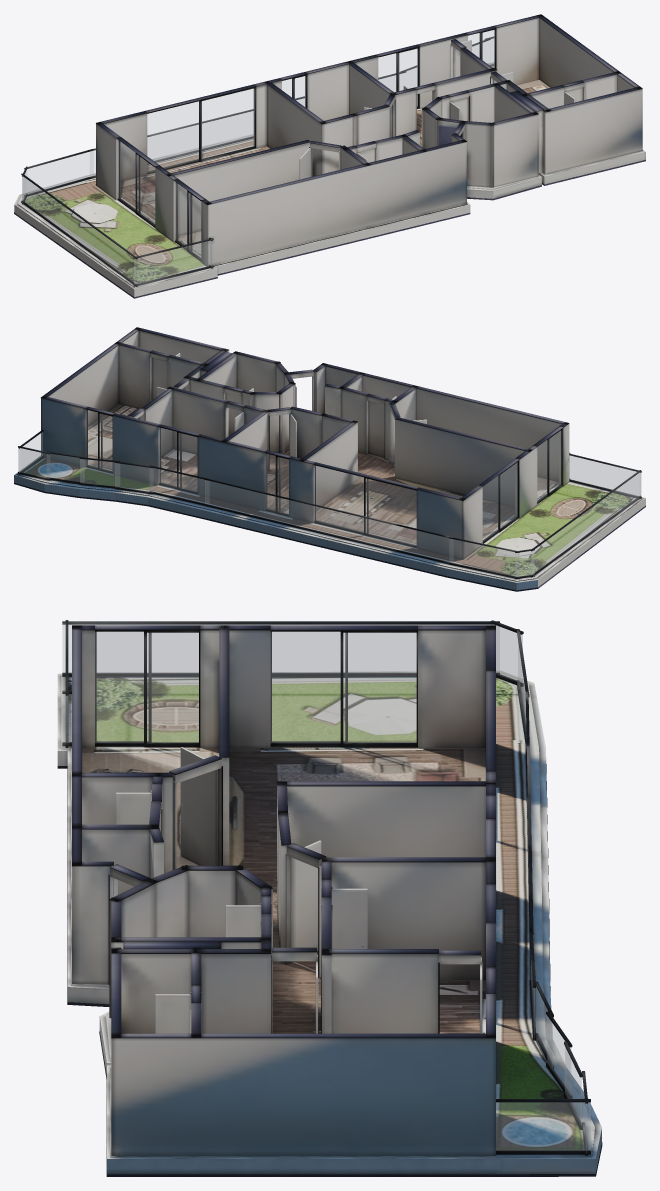
3 views of the same model, one above another, from view 1: azimuth 30°, elevation 25°; view 2: azimuth 150°, elevation 25°; view 3: azimuth 270°, elevation 25° (orthographic). The views are drawn at different scales.
Parts seen in each view (by area): view 1: plan, glass0_m, railg3_m, railg9_m, glass1_m, railg0_m, railg10_m, glass4_m, glass2_m, glass5_m, glass3_m; view 2: plan, railg9_m, glass0_m, railg3_m, glass4_m, glass1_m, railg10_m, railg0_m, railg8_m, glass5_m, glass2_m, glass3_m (+6 smaller); view 3: plan, glass1_m, glass2_m, railg3_m, railg1_m, railg11_m, railg7_m.
Boxes of the visible parts, bbox=[...] form: plan: bbox=[14, 14, 645, 298]; glass0_m: bbox=[147, 89, 254, 171]; railg3_m: bbox=[22, 177, 137, 284]; railg9_m: bbox=[90, 98, 304, 176]; glass1_m: bbox=[118, 141, 154, 224]; railg0_m: bbox=[134, 241, 212, 284]; railg10_m: bbox=[25, 151, 93, 193]; glass4_m: bbox=[378, 49, 417, 106]; glass2_m: bbox=[176, 183, 200, 257]; glass5_m: bbox=[468, 30, 494, 67]; glass3_m: bbox=[282, 76, 305, 107]; plan: bbox=[14, 327, 645, 591]; railg9_m: bbox=[205, 480, 453, 562]; glass0_m: bbox=[315, 466, 416, 544]; railg3_m: bbox=[531, 473, 640, 575]; glass4_m: bbox=[160, 428, 197, 491]; glass1_m: bbox=[483, 462, 517, 541]; railg10_m: bbox=[449, 539, 519, 576]; railg0_m: bbox=[569, 456, 641, 496]; railg8_m: bbox=[150, 468, 208, 504]; glass5_m: bbox=[87, 410, 112, 470]; glass2_m: bbox=[537, 431, 560, 501]; glass3_m: bbox=[266, 454, 288, 513]; plan: bbox=[57, 620, 602, 1176]; glass1_m: bbox=[271, 632, 416, 742]; glass2_m: bbox=[95, 632, 198, 742]; railg3_m: bbox=[62, 625, 499, 672]; railg1_m: bbox=[496, 1102, 590, 1150]; railg11_m: bbox=[496, 625, 522, 682]; railg7_m: bbox=[547, 1016, 570, 1094].
Bounding box in the file's own units: 20.02 × 2.62 × 9.43.
2 materials, 1 textured.
